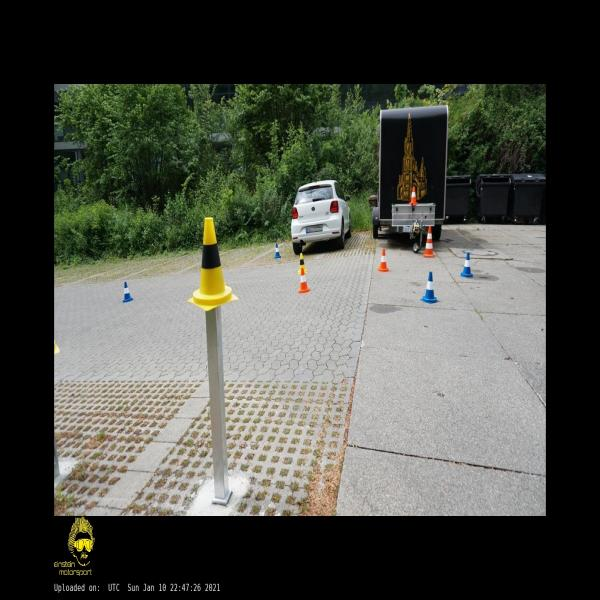blue_cone: (420, 272, 438, 304), (461, 252, 473, 277), (123, 282, 133, 303), (274, 243, 281, 259)
large_orange_cone: (424, 226, 434, 256)
orange_cone: (298, 268, 311, 294), (378, 248, 389, 272), (409, 187, 418, 205)
yellow_cone: (186, 217, 238, 312), (297, 253, 307, 274)
